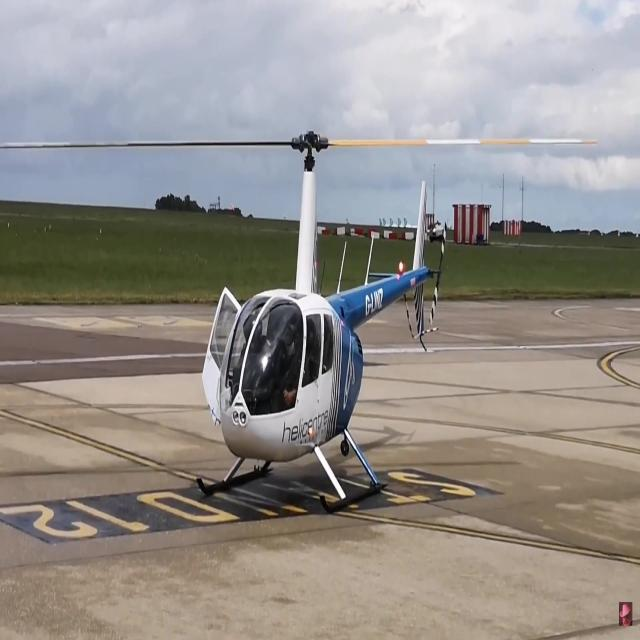CIV_HELO: (194, 125, 446, 516)
